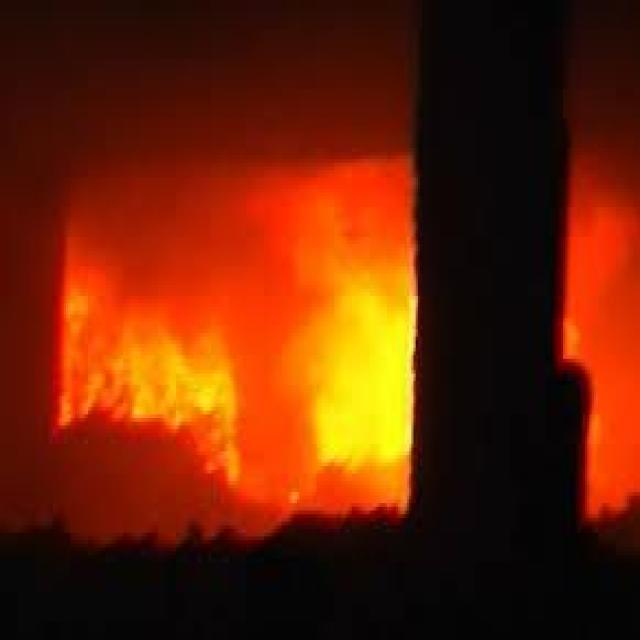Fire: (287, 162, 424, 494), (64, 265, 252, 504)
